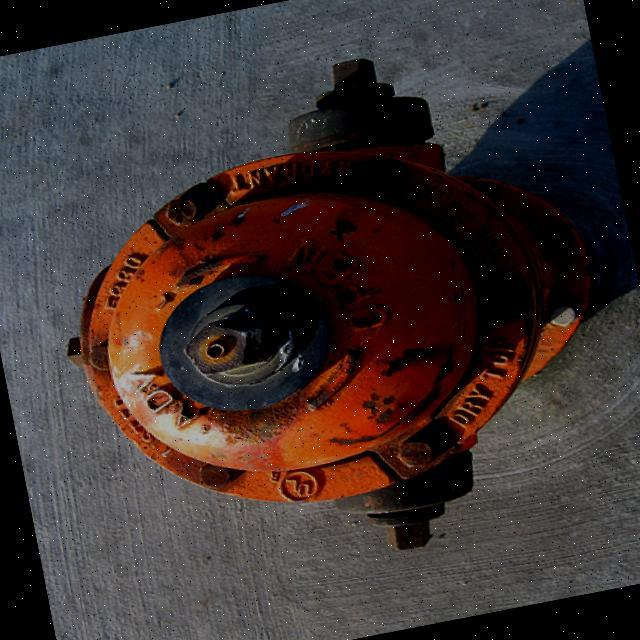fire_hydrant: (24, 22, 640, 608)
